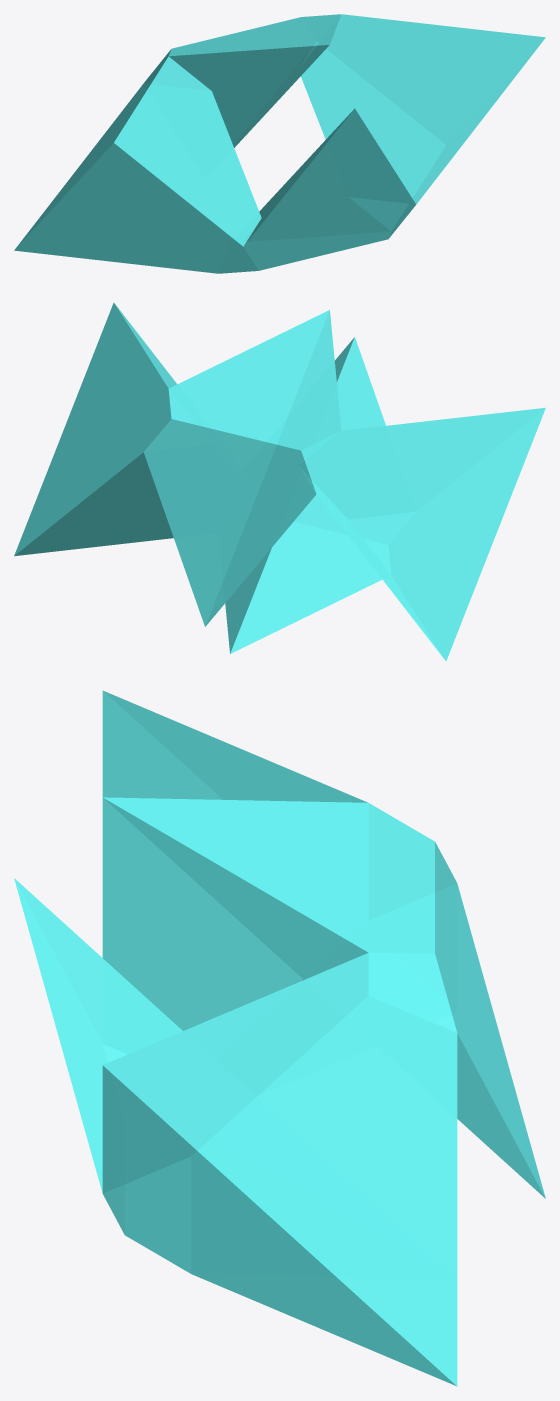
Rendered from CairoTiling_A.obj.
3 views of the same model, one above another, from view 1: azimuth 30°, elevation 25°; view 2: azimuth 150°, elevation 25°; view 3: azimuth 270°, elevation 25° (orthographic). The views are drawn at different scales.
Size of the model in its own units: 4 by 2.4 by 2.4.
